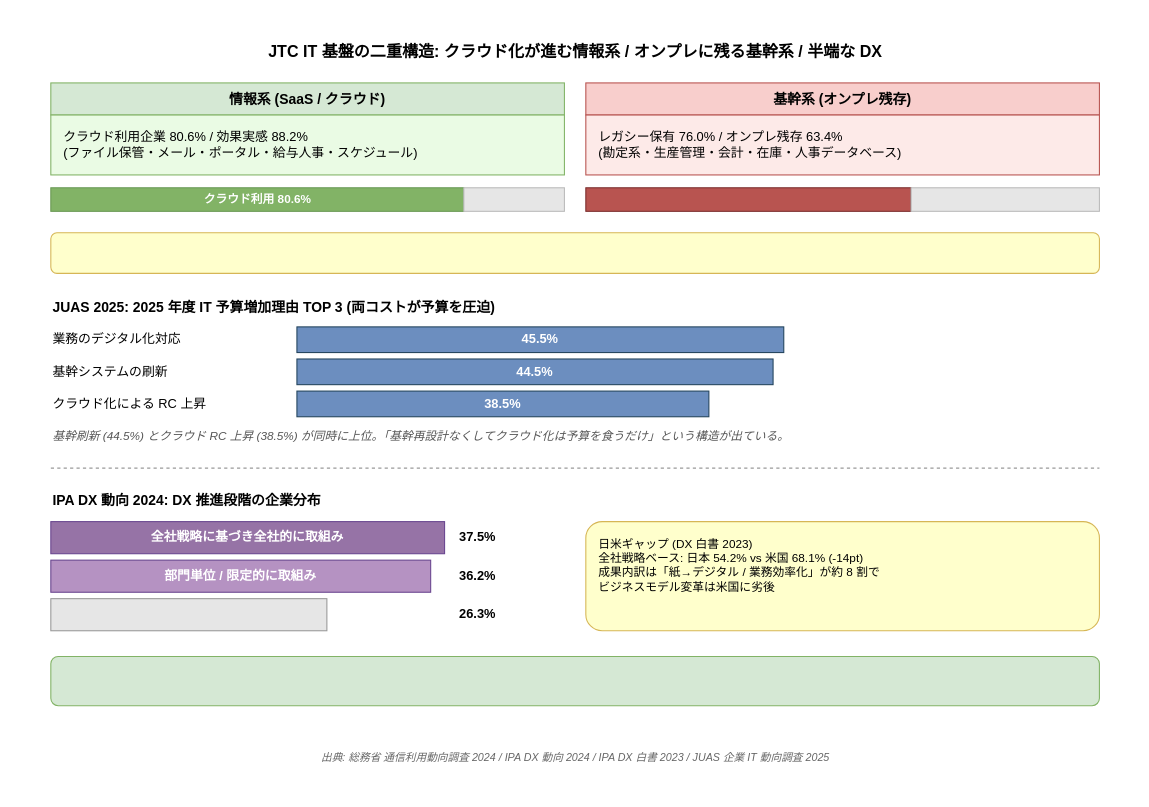
Image size: 1149x807. Some labels were removed from this diagram. Each missing label, with the centre of its shape:
"k1s0 の立ち位置: 「二重運用コストを圧縮する基幹接続層」 + 「業務効率化止まりの DX を変革に押し上げる基盤」" goes at point 574,680.
"オンプレ残存 63.4%" goes at point 748,199.
"両方の運用費が同時に乗るハイブリッド固着" goes at point 574,252.
"未取組み" goes at point 188,614.
